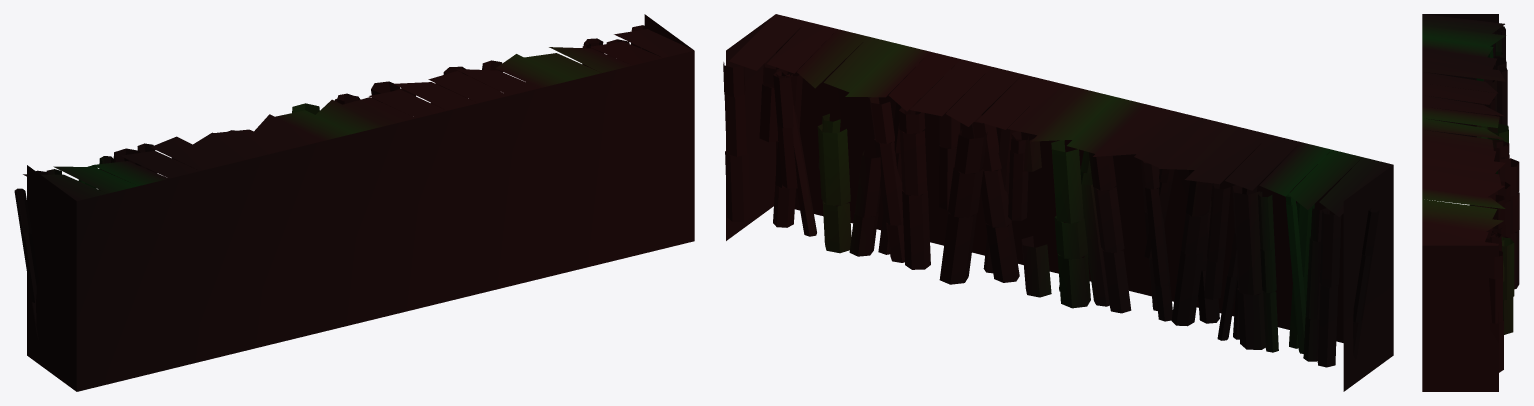
File: tf_basalt_flowband_20m.glb
3 views of the same model, side by side, from view 1: azimuth 30°, elevation 25°; view 2: azimuth 150°, elevation 25°; view 3: azimuth 270°, elevation 25° (orthographic). The views are drawn at different scales.
Parts seen in each view (by area): view 1: tf_basalt_flowband_20m; view 2: tf_basalt_flowband_20m; view 3: tf_basalt_flowband_20m.
Part boxes in pixels (left/top/right/bottom): tf_basalt_flowband_20m: left=14, top=14, right=694, bottom=391; tf_basalt_flowband_20m: left=723, top=14, right=1393, bottom=391; tf_basalt_flowband_20m: left=1422, top=14, right=1519, bottom=391.
Size of what is drawn, in the model's own units: 20.9 by 5.9 by 3.56.
